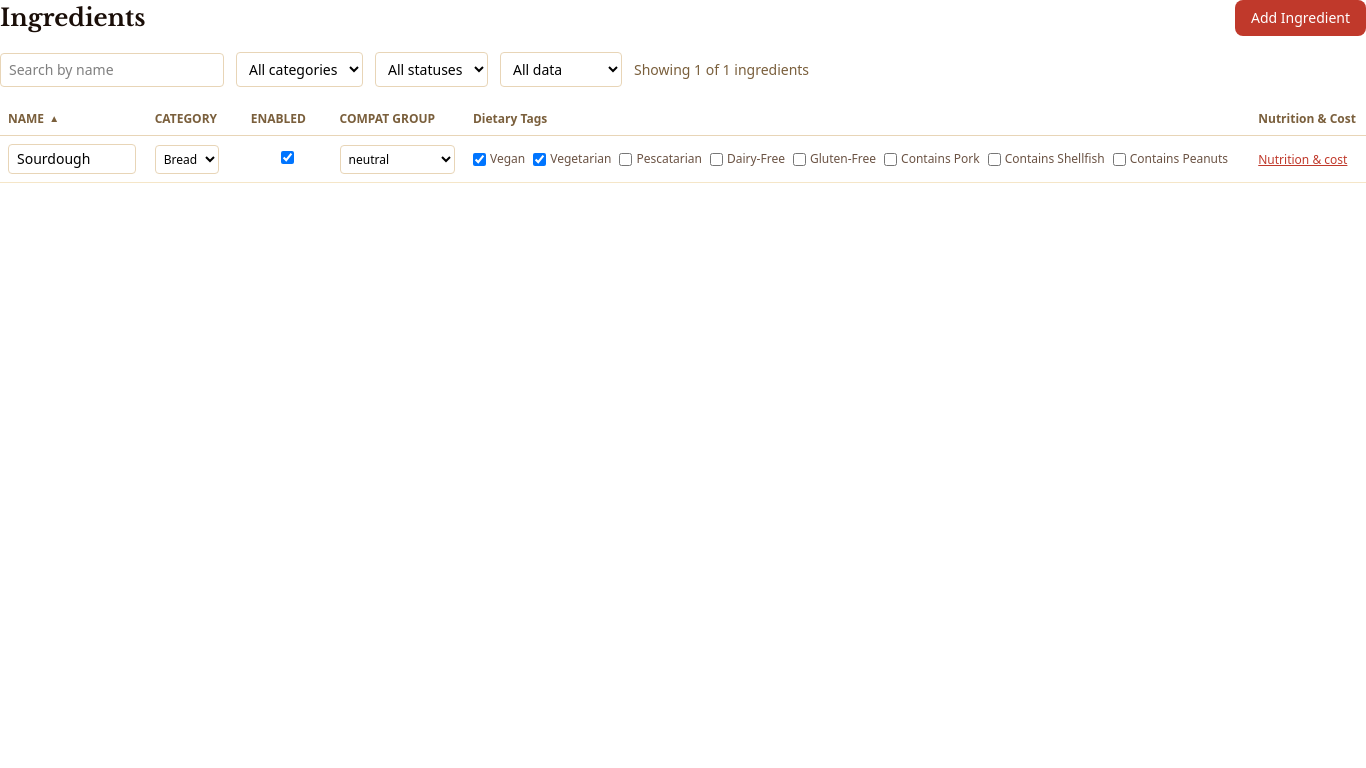
it: IngredientsPage › opens the Add Ingredient modal and creates a new ingredient
Check: the field showing "Sourdough" is shown, box top-left (8, 144), bottom-right (136, 174)
Click the button "Add Ingredient": (1300, 18) top-left (1235, 0), bottom-right (1365, 36)
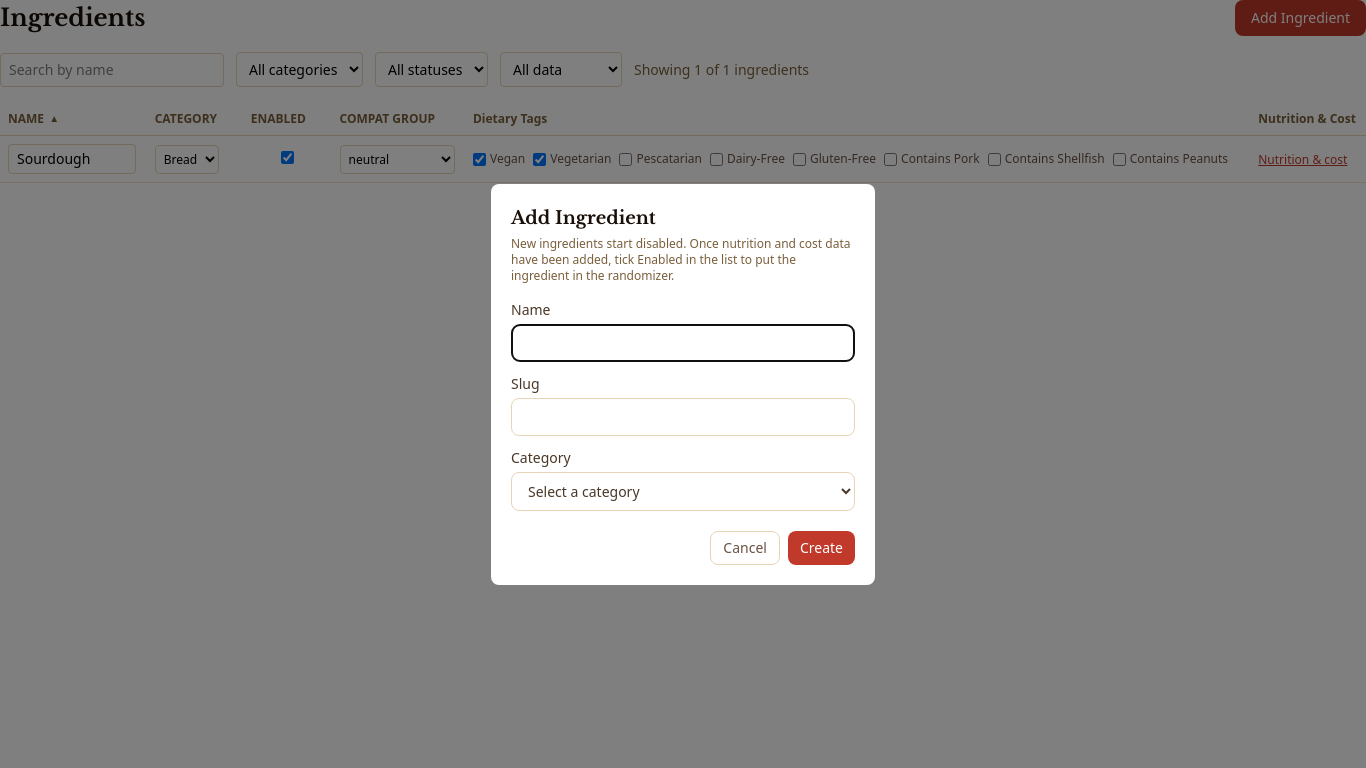
Check: the dialog is shown
In the field labelled "Name": (683, 342) top-left (511, 324), bottom-right (855, 362), type "Havarti"
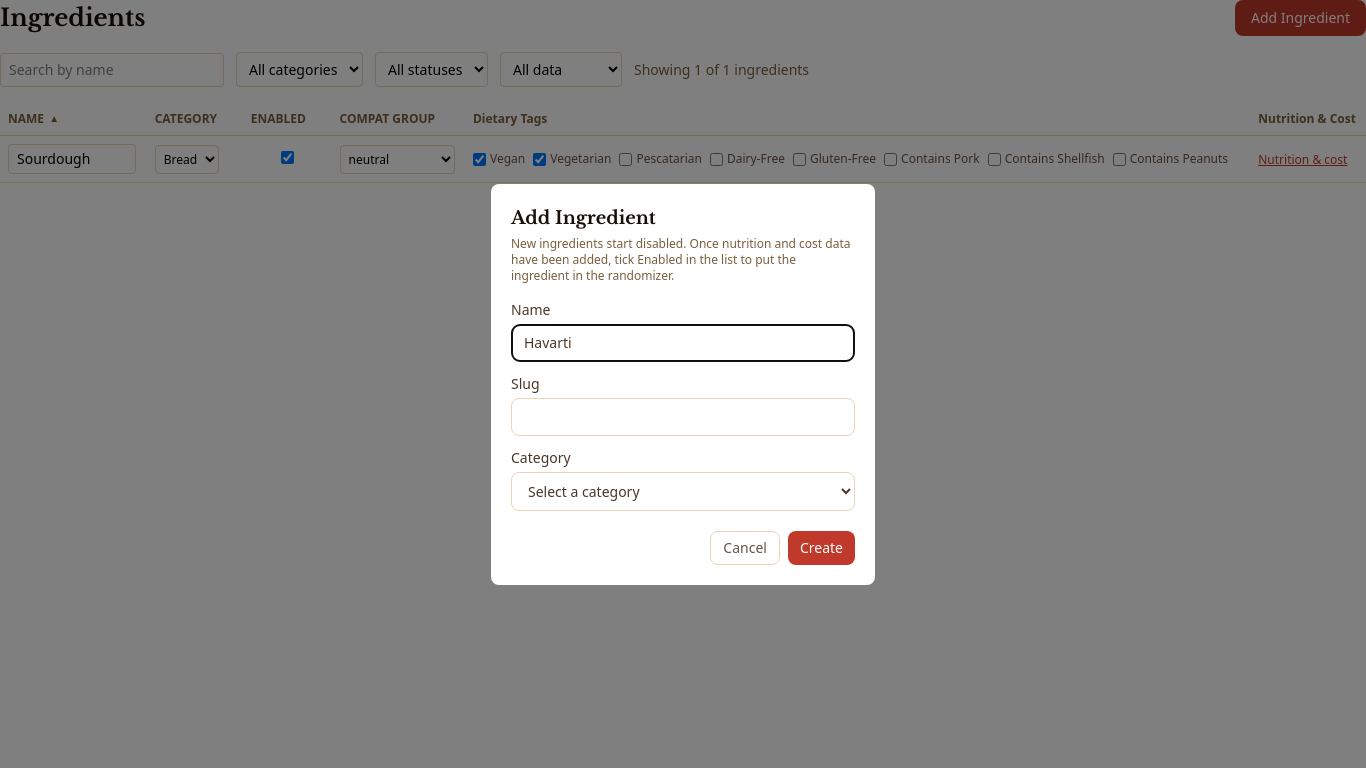
In the field labelled "Slug": (683, 416) top-left (511, 398), bottom-right (855, 436), type "havarti"
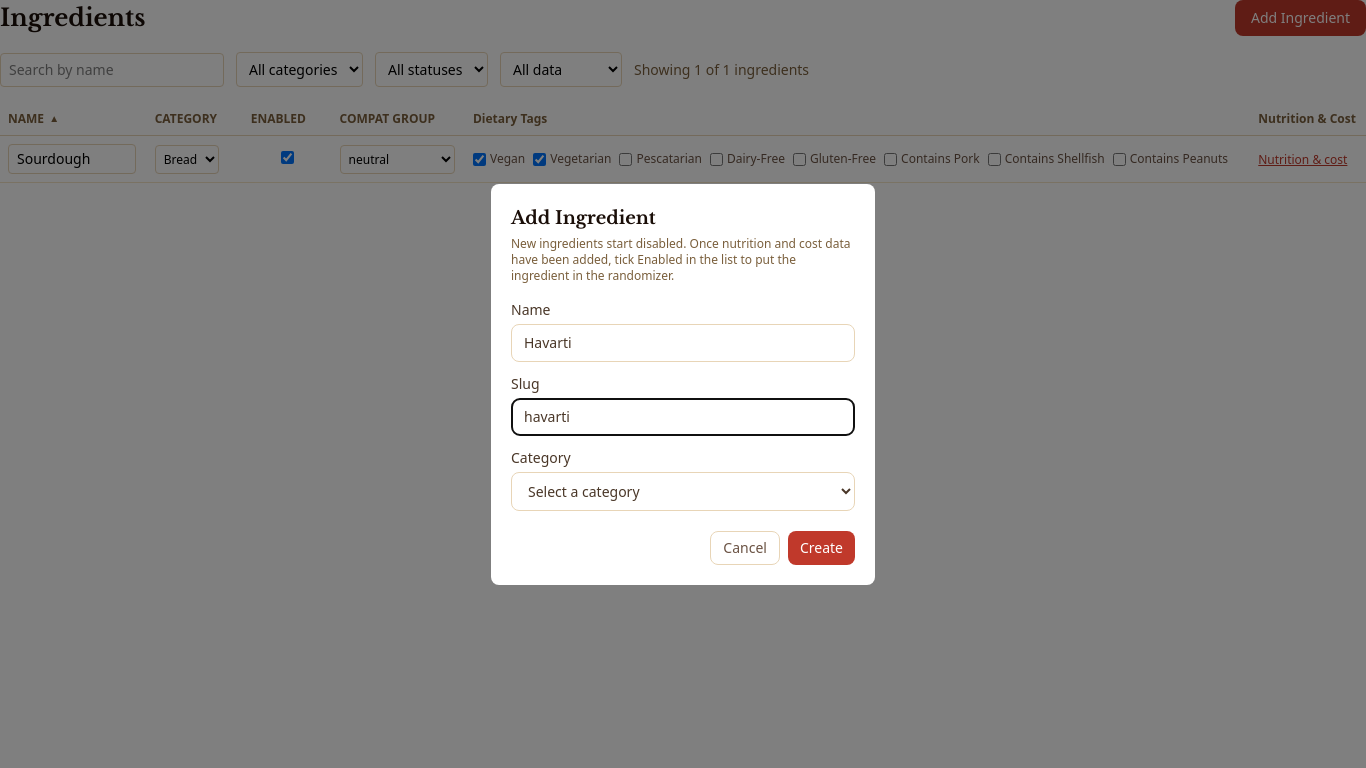
Select "Bread" in the dropdown labelled "Category": (683, 491) top-left (511, 472), bottom-right (855, 510)
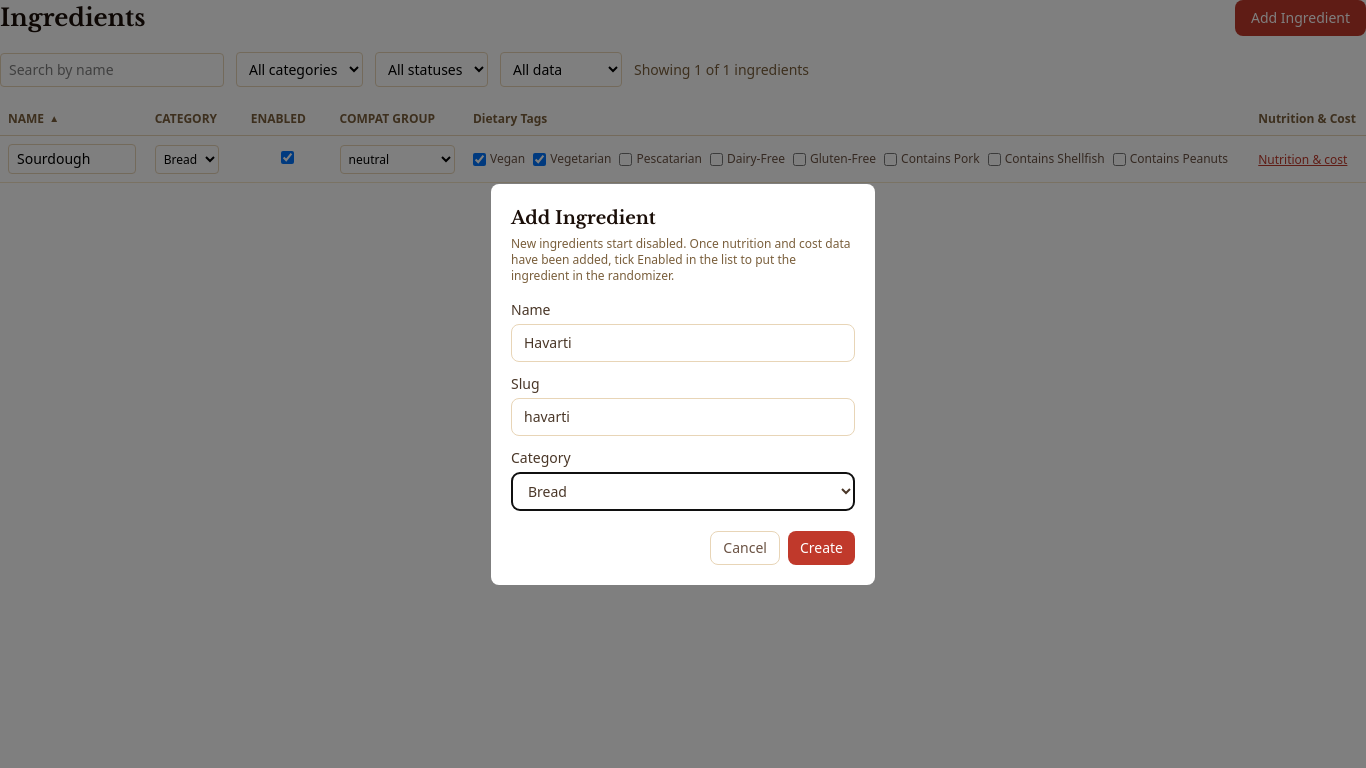
Click the button "Create": (821, 548) top-left (788, 530), bottom-right (855, 564)
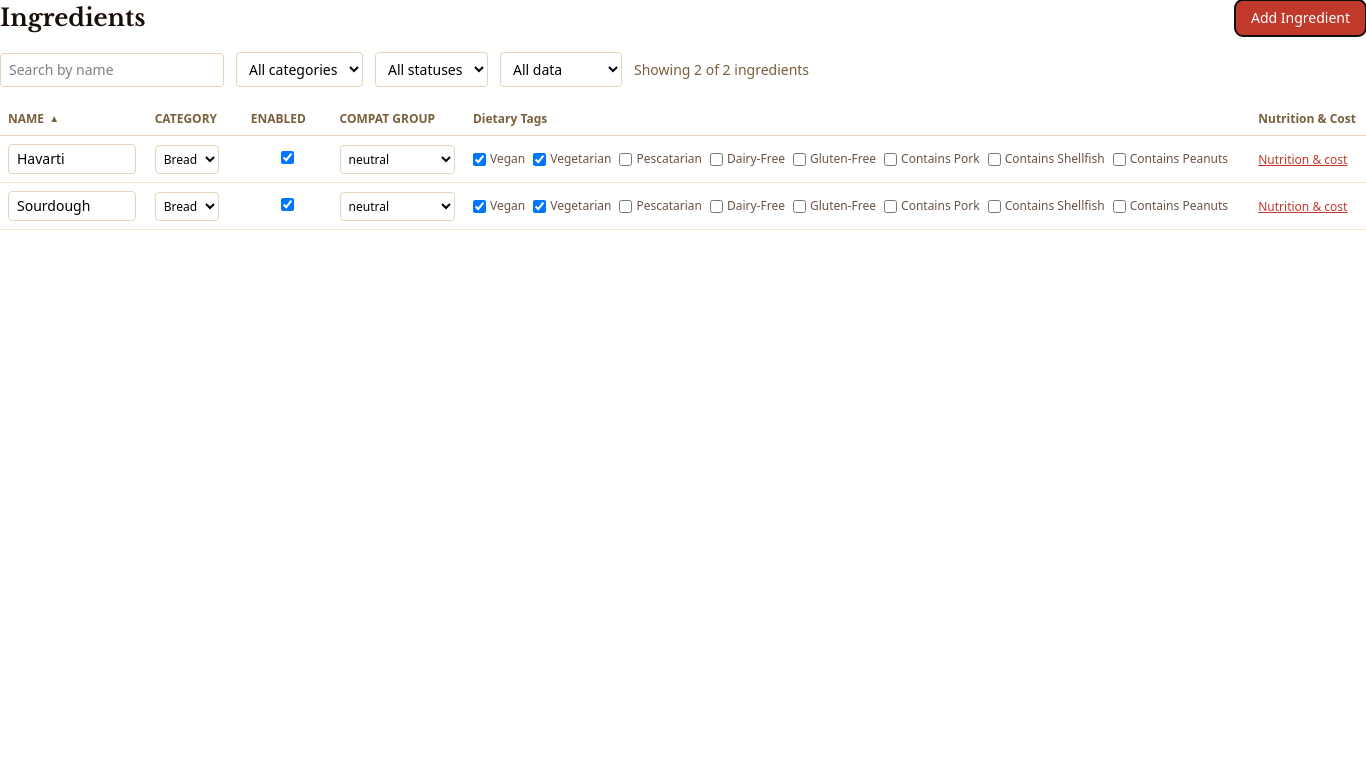
Check: the field showing "Havarti" is shown, box top-left (8, 144), bottom-right (136, 174)
